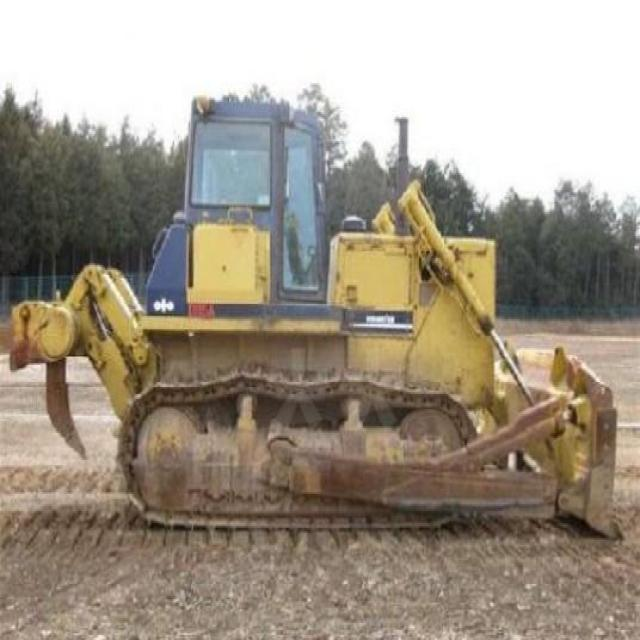buldozerpayloadergrader: (14, 83, 624, 545)
